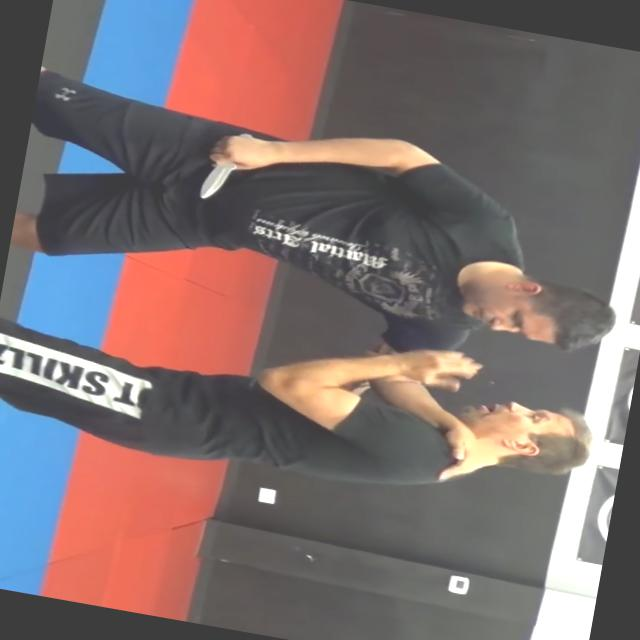knife: (190, 124, 256, 208)
